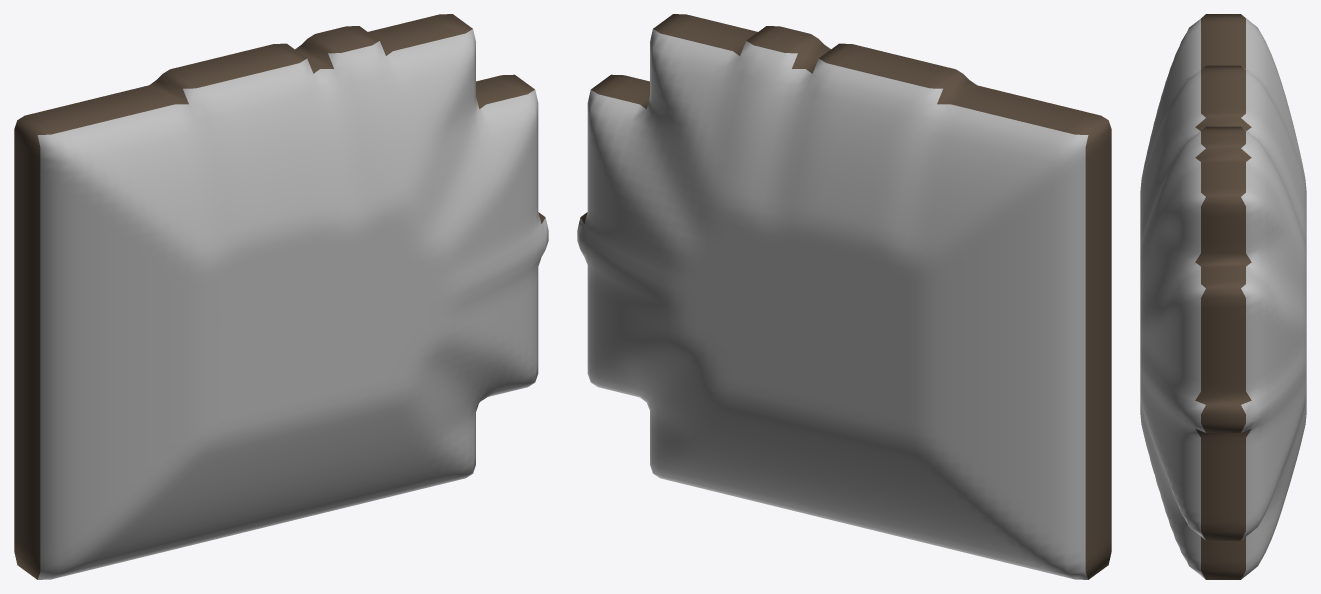
File: dumbwaiter.glb
The picture shows the model from 3 angles, left to right: view 1: azimuth 30°, elevation 25°; view 2: azimuth 150°, elevation 25°; view 3: azimuth 270°, elevation 25°; orthographic projection. The views are drawn at different scales.
Visible parts, largest first — view 1: dumbwaiter; view 2: dumbwaiter; view 3: dumbwaiter.
Boxes of the visible parts, x1=… form: dumbwaiter: x1=14, y1=14, x2=548, y2=579; dumbwaiter: x1=577, y1=14, x2=1111, y2=579; dumbwaiter: x1=1140, y1=14, x2=1306, y2=579.
Size of the model in its own units: 0.6682 by 0.5727 by 0.22.
